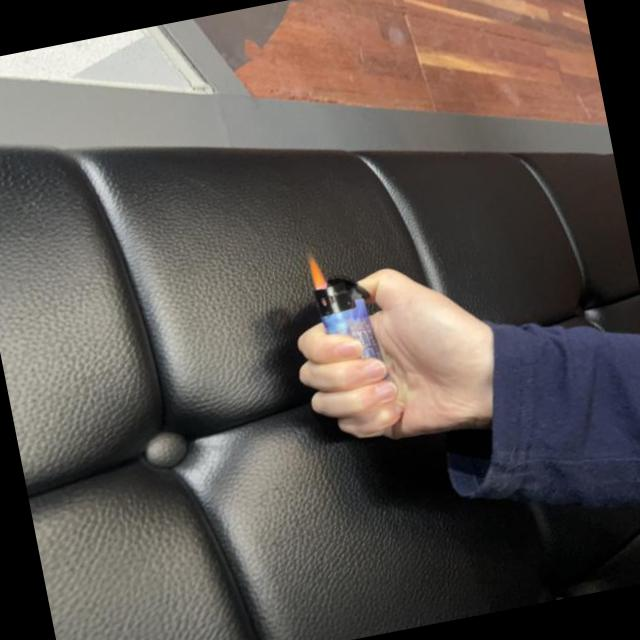Fire: (304, 247, 331, 293)
